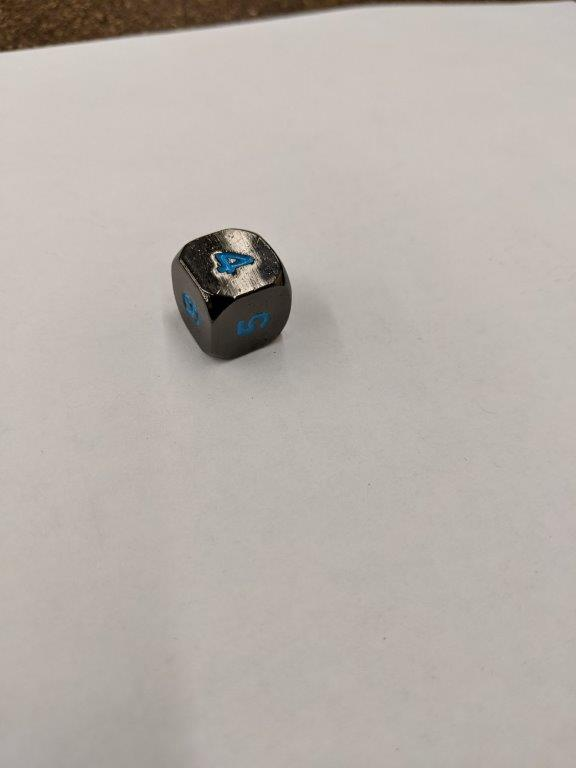d6-4: (170, 227, 292, 361)
